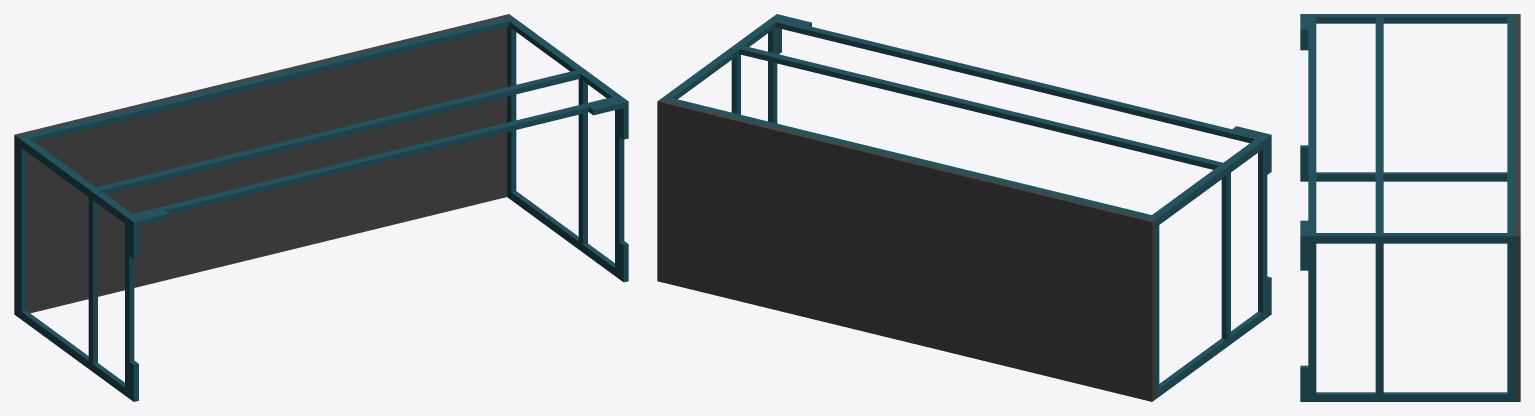
File: table.obj
The picture shows the model from 3 angles, left to right: view 1: azimuth 30°, elevation 25°; view 2: azimuth 150°, elevation 25°; view 3: azimuth 270°, elevation 25°; orthographic projection. The views are drawn at different scales.
Parts seen in each view (by area): view 1: Shape_IndexedFaceSet.018_Shape_IndexedFaceSet.031, Shape_IndexedFaceSet.141_Shape_IndexedFaceSet.154, Shape_IndexedFaceSet.136_Shape_IndexedFaceSet.149, Shape_IndexedFaceSet.146_Shape_IndexedFaceSet.159, Shape_IndexedFaceSet.022_Shape_IndexedFaceSet.035, Shape_IndexedFaceSet.023_Shape_IndexedFaceSet.036, Shape_IndexedFaceSet.135_Shape_IndexedFaceSet.148, Shape_IndexedFaceSet.139_Shape_IndexedFaceSet.152, Shape_IndexedFaceSet.144_Shape_IndexedFaceSet.157, Shape_IndexedFaceSet.140_Shape_IndexedFaceSet.153, Shape_IndexedFaceSet.145_Shape_IndexedFaceSet.158, Shape_IndexedFaceSet.054_Shape_IndexedFaceSet.067 (+9 smaller); view 2: Shape_IndexedFaceSet.092_Shape_IndexedFaceSet.105, Shape_IndexedFaceSet.143_Shape_IndexedFaceSet.156, Shape_IndexedFaceSet.138_Shape_IndexedFaceSet.151, Shape_IndexedFaceSet.022_Shape_IndexedFaceSet.035, Shape_IndexedFaceSet.023_Shape_IndexedFaceSet.036, Shape_IndexedFaceSet.135_Shape_IndexedFaceSet.148, Shape_IndexedFaceSet.139_Shape_IndexedFaceSet.152, Shape_IndexedFaceSet.140_Shape_IndexedFaceSet.153, Shape_IndexedFaceSet.144_Shape_IndexedFaceSet.157, Shape_IndexedFaceSet.145_Shape_IndexedFaceSet.158, Shape_IndexedFaceSet.050_Shape_IndexedFaceSet.063, Shape_IndexedFaceSet.045_Shape_IndexedFaceSet.058 (+3 smaller); view 3: Shape_IndexedFaceSet.022_Shape_IndexedFaceSet.035, Shape_IndexedFaceSet.023_Shape_IndexedFaceSet.036, Shape_IndexedFaceSet.140_Shape_IndexedFaceSet.153, Shape_IndexedFaceSet.144_Shape_IndexedFaceSet.157, Shape_IndexedFaceSet.139_Shape_IndexedFaceSet.152, Shape_IndexedFaceSet.091_Shape_IndexedFaceSet.104, Shape_IndexedFaceSet.135_Shape_IndexedFaceSet.148, Shape_IndexedFaceSet.081_Shape_IndexedFaceSet.094, Shape_IndexedFaceSet.145_Shape_IndexedFaceSet.158, Shape_IndexedFaceSet.088_Shape_IndexedFaceSet.101, Shape_IndexedFaceSet.089_Shape_IndexedFaceSet.102, Shape_IndexedFaceSet.090_Shape_IndexedFaceSet.103 (+21 smaller).
Part boxes in pixels (box(x1,y1,x2,y2)): Shape_IndexedFaceSet.018_Shape_IndexedFaceSet.031: box(26, 27, 506, 313); Shape_IndexedFaceSet.141_Shape_IndexedFaceSet.154: box(101, 73, 580, 194); Shape_IndexedFaceSet.136_Shape_IndexedFaceSet.149: box(29, 21, 508, 141); Shape_IndexedFaceSet.146_Shape_IndexedFaceSet.159: box(165, 107, 588, 214); Shape_IndexedFaceSet.022_Shape_IndexedFaceSet.035: box(14, 14, 511, 136); Shape_IndexedFaceSet.023_Shape_IndexedFaceSet.036: box(17, 20, 494, 138); Shape_IndexedFaceSet.135_Shape_IndexedFaceSet.148: box(44, 16, 511, 134); Shape_IndexedFaceSet.139_Shape_IndexedFaceSet.152: box(96, 73, 564, 190); Shape_IndexedFaceSet.144_Shape_IndexedFaceSet.157: box(133, 101, 595, 213); Shape_IndexedFaceSet.140_Shape_IndexedFaceSet.153: box(118, 70, 579, 186); Shape_IndexedFaceSet.145_Shape_IndexedFaceSet.158: box(175, 97, 611, 207); Shape_IndexedFaceSet.054_Shape_IndexedFaceSet.067: box(21, 148, 26, 311); Shape_IndexedFaceSet.092_Shape_IndexedFaceSet.105: box(657, 101, 1152, 401); Shape_IndexedFaceSet.143_Shape_IndexedFaceSet.156: box(775, 22, 1254, 143); Shape_IndexedFaceSet.138_Shape_IndexedFaceSet.151: box(739, 49, 1218, 169); Shape_IndexedFaceSet.022_Shape_IndexedFaceSet.035: box(657, 99, 1154, 221); Shape_IndexedFaceSet.023_Shape_IndexedFaceSet.036: box(677, 103, 1154, 219); Shape_IndexedFaceSet.135_Shape_IndexedFaceSet.148: box(661, 98, 1139, 212); Shape_IndexedFaceSet.139_Shape_IndexedFaceSet.152: box(752, 52, 1222, 165); Shape_IndexedFaceSet.140_Shape_IndexedFaceSet.153: box(739, 45, 1212, 160); Shape_IndexedFaceSet.144_Shape_IndexedFaceSet.157: box(790, 25, 1253, 138); Shape_IndexedFaceSet.145_Shape_IndexedFaceSet.158: box(777, 22, 1218, 126); Shape_IndexedFaceSet.050_Shape_IndexedFaceSet.063: box(1221, 176, 1226, 339); Shape_IndexedFaceSet.045_Shape_IndexedFaceSet.058: box(1258, 149, 1262, 312); Shape_IndexedFaceSet.022_Shape_IndexedFaceSet.035: box(1515, 14, 1520, 236); Shape_IndexedFaceSet.023_Shape_IndexedFaceSet.036: box(1507, 14, 1515, 233); Shape_IndexedFaceSet.140_Shape_IndexedFaceSet.153: box(1375, 24, 1383, 232); Shape_IndexedFaceSet.144_Shape_IndexedFaceSet.157: box(1308, 18, 1316, 224); Shape_IndexedFaceSet.139_Shape_IndexedFaceSet.152: box(1375, 17, 1383, 228); Shape_IndexedFaceSet.091_Shape_IndexedFaceSet.104: box(1515, 236, 1520, 401); Shape_IndexedFaceSet.135_Shape_IndexedFaceSet.148: box(1507, 26, 1515, 235); Shape_IndexedFaceSet.081_Shape_IndexedFaceSet.094: box(1300, 236, 1514, 243); Shape_IndexedFaceSet.145_Shape_IndexedFaceSet.158: box(1308, 31, 1316, 232); Shape_IndexedFaceSet.088_Shape_IndexedFaceSet.101: box(1301, 394, 1502, 401); Shape_IndexedFaceSet.089_Shape_IndexedFaceSet.102: box(1305, 394, 1514, 401); Shape_IndexedFaceSet.090_Shape_IndexedFaceSet.103: box(1507, 238, 1515, 401).
Size of the model in its own units: 27.78 by 9.64 by 11.62.
